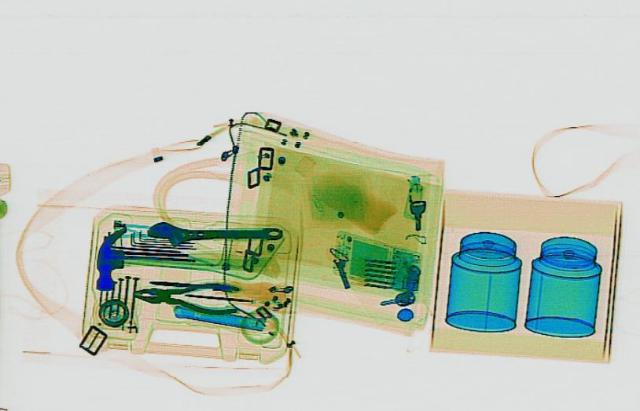Pliers: (130, 275, 240, 316)
Wrench: (146, 220, 280, 249)
